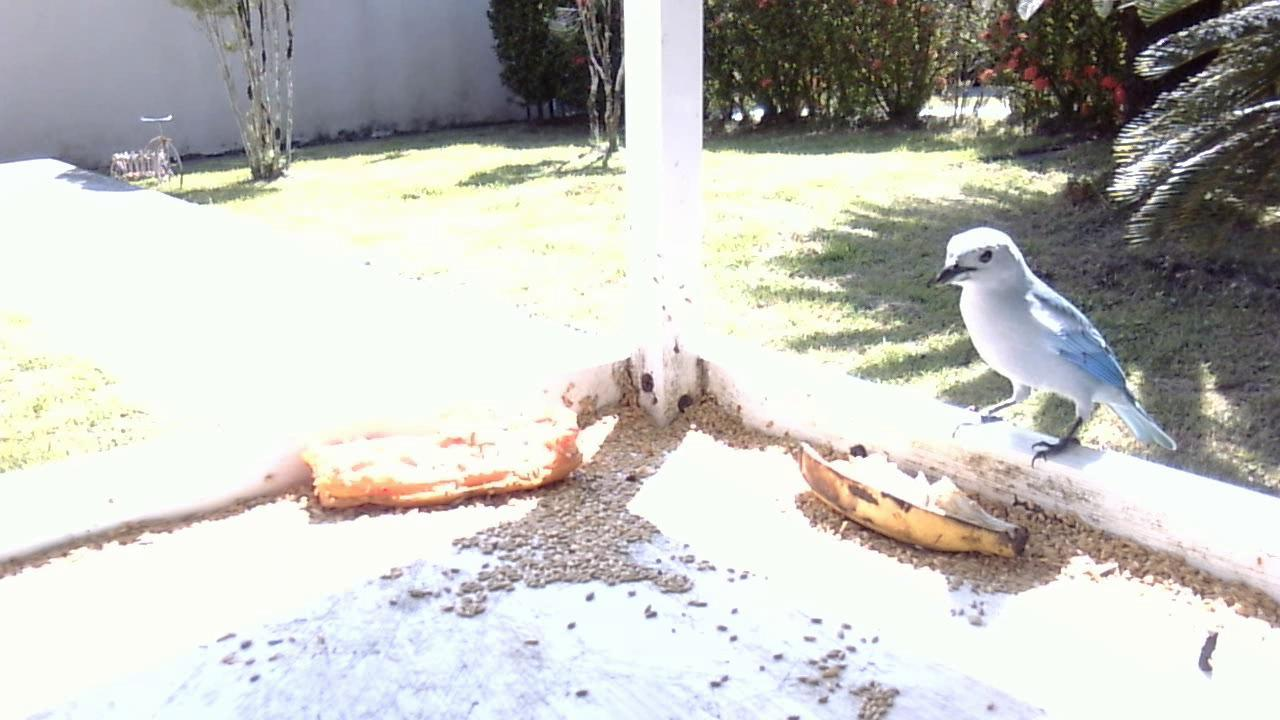sanhaco_da_amazonia: (925, 220, 1183, 472)
